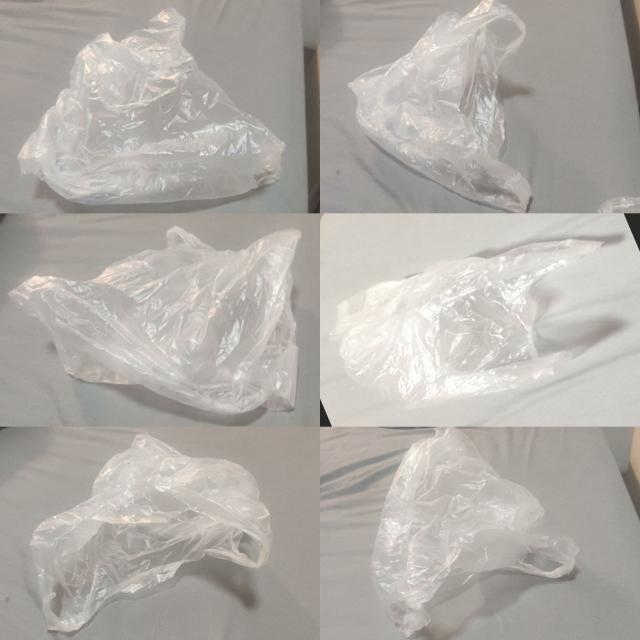Single-layer Plastic: (9, 226, 300, 414), (19, 9, 285, 204), (30, 434, 271, 632), (330, 239, 602, 408), (370, 428, 578, 636), (349, 0, 532, 212)
